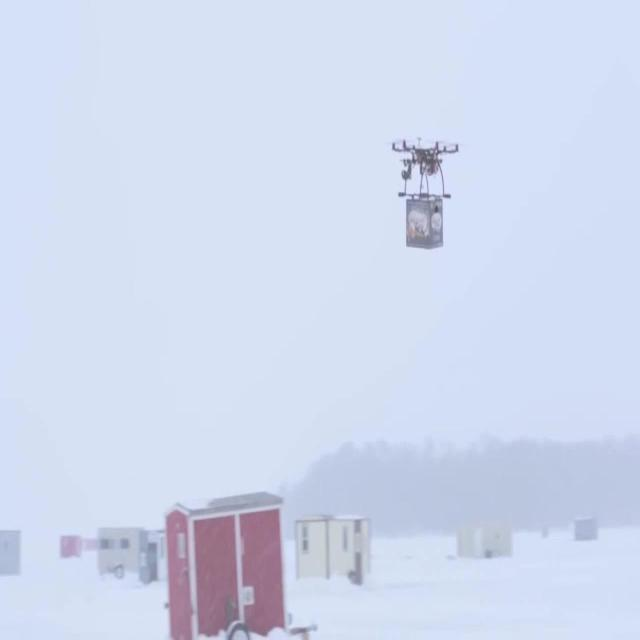drone: (391, 135, 467, 201)
